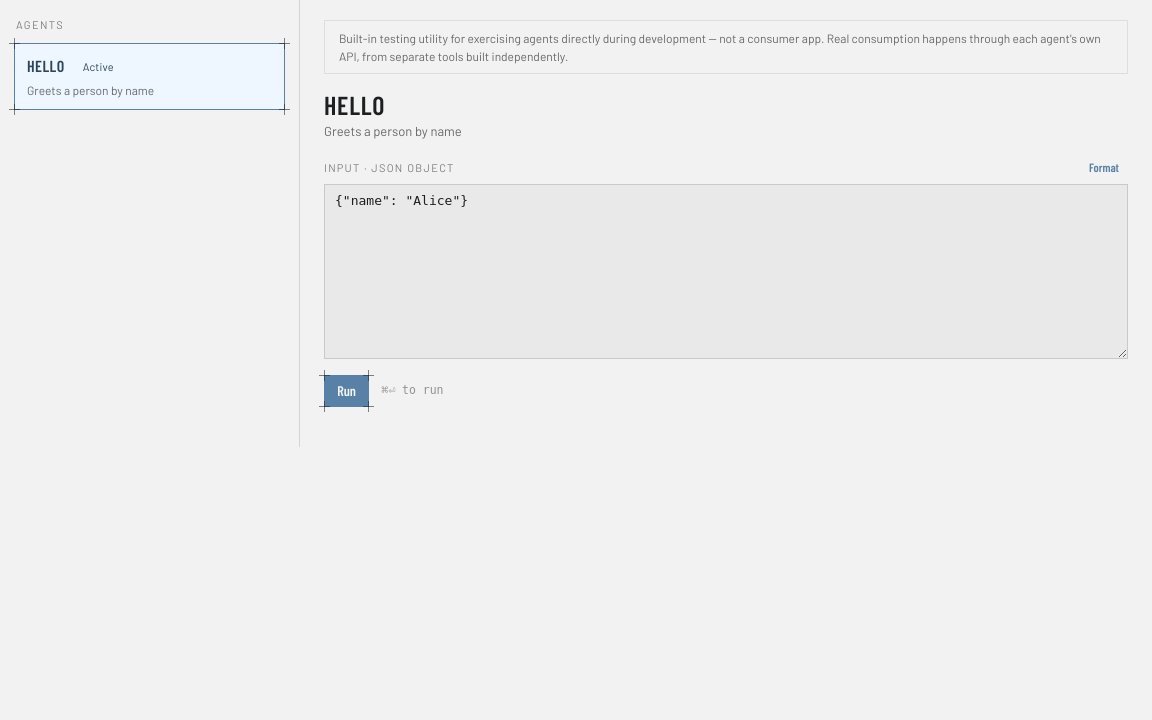
it: RunScreen grading › surfaces the XP delta and resulting level from the response, not a generic 'done'
Click the button "Run".
click(347, 391)  # box [324,375,369,407]
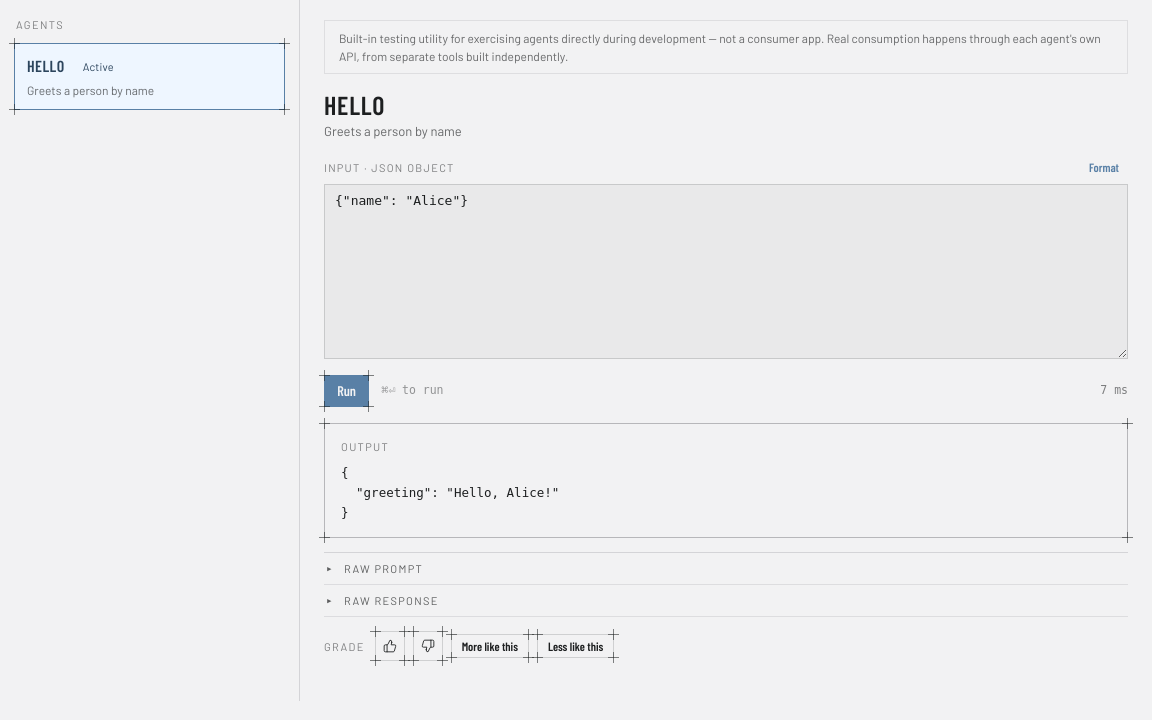
Expected: the text "{ \"greeting\": \"Hello, Alice!\" }" is shown, [341,465,559,520]
Click the button named "thumbs up".
click(390, 646)  # box [375,631,405,661]
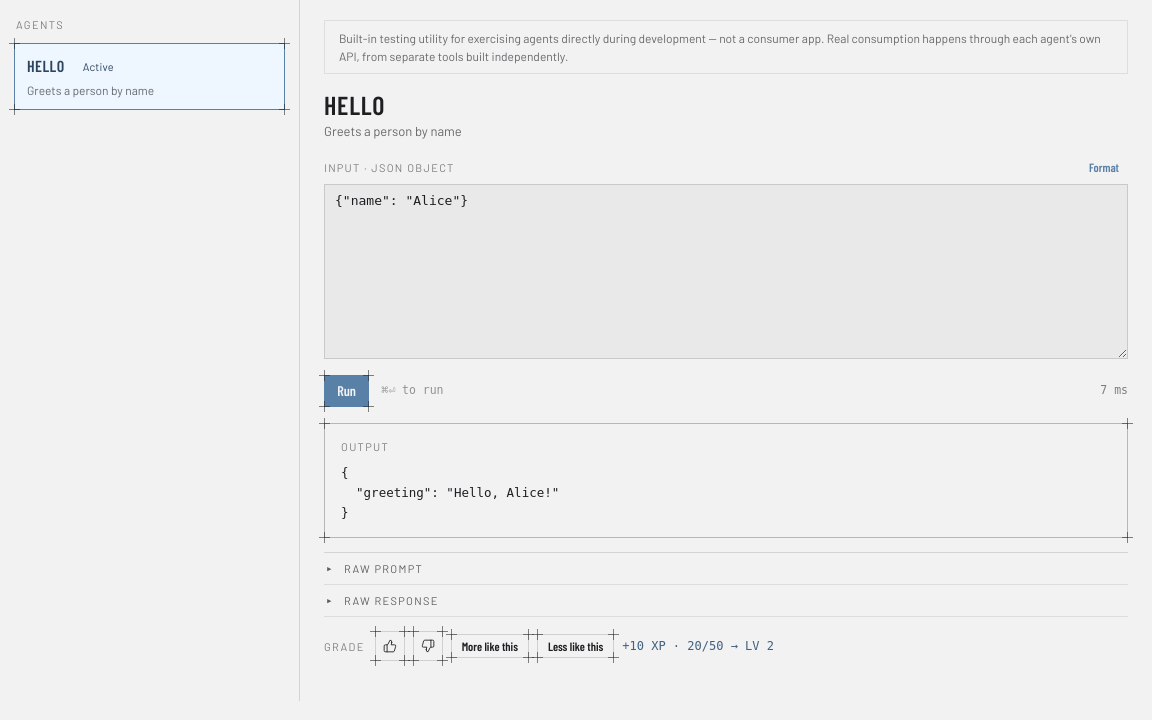
Expected: the text "+10 XP · 20/50 → LV 2" is shown, [622,637,774,656]
